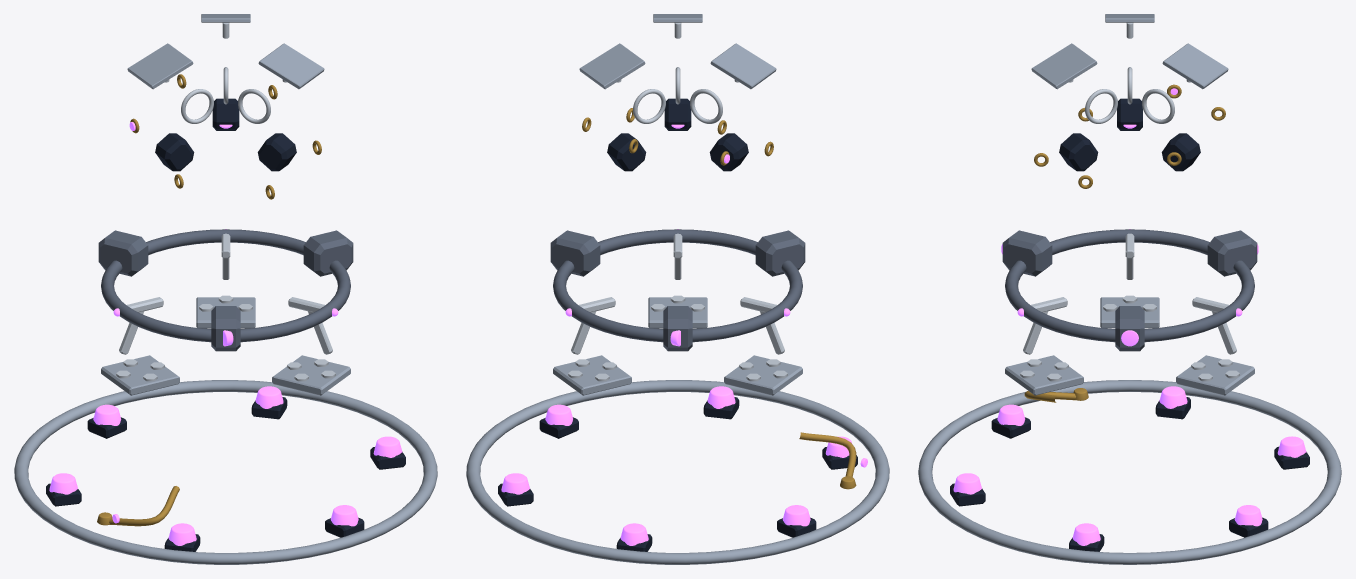
File: tower_singularity_range_s10.glb
The picture shows the model from 3 angles, left to right: view 1: azimuth 30°, elevation 25°; view 2: azimuth 150°, elevation 25°; view 3: azimuth 270°, elevation 25°; orthographic projection.
Parts seen in each view (by area): view 1: singularity_projector_ring, singularity_collar_ring, singularity_collar_pod0, singularity_collar_pod1, singularity_foot_plate0, singularity_foot_plate1, singularity_reflector0, singularity_reflector1, singularity_collar_pod2, singularity_lens_b_cowl0, singularity_lens_b_cowl1, singularity_foot_plate2 (+2 smaller); view 2: singularity_projector_ring, singularity_collar_ring, singularity_collar_pod1, singularity_collar_pod2, singularity_foot_plate0, singularity_foot_plate2, singularity_reflector0, singularity_reflector2, singularity_collar_pod0, singularity_foot_plate1, singularity_lens_b_cowl2, singularity_lens_b_cowl0 (+2 smaller); view 3: singularity_projector_ring, singularity_collar_ring, singularity_collar_pod0, singularity_collar_pod2, singularity_foot_plate1, singularity_foot_plate2, singularity_reflector1, singularity_reflector2, singularity_collar_pod1, singularity_lens_b_cowl1, singularity_foot_plate0, singularity_lens_b_cowl2 (+1 smaller).
Part boxes in pixels (x1,y1,x2,y2): singularity_projector_ring: (14,380,437,564); singularity_collar_ring: (101,229,350,342); singularity_collar_pod0: (98,230,148,276); singularity_collar_pod1: (303,230,353,276); singularity_foot_plate0: (101,355,179,395); singularity_foot_plate1: (272,355,350,395); singularity_reflector0: (127,43,193,89); singularity_reflector1: (258,43,324,89); singularity_collar_pod2: (211,306,240,351); singularity_lens_b_cowl0: (155,133,194,171); singularity_lens_b_cowl1: (257,133,296,171); singularity_foot_plate2: (196,297,255,328); singularity_projector_ring: (466,380,889,564); singularity_collar_ring: (553,229,802,342); singularity_collar_pod1: (550,230,600,276); singularity_collar_pod2: (755,230,805,276); singularity_foot_plate0: (724,355,802,395); singularity_foot_plate2: (553,355,631,395); singularity_reflector0: (710,43,776,89); singularity_reflector2: (579,43,645,89); singularity_collar_pod0: (663,306,692,351); singularity_foot_plate1: (648,297,707,328); singularity_lens_b_cowl2: (607,133,646,171); singularity_lens_b_cowl0: (709,133,748,171); singularity_projector_ring: (918,380,1341,564); singularity_collar_ring: (1005,229,1254,342); singularity_collar_pod0: (1207,230,1257,276); singularity_collar_pod2: (1002,230,1052,276); singularity_foot_plate1: (1005,355,1083,395); singularity_foot_plate2: (1176,355,1254,395); singularity_reflector1: (1031,43,1097,89); singularity_reflector2: (1162,43,1228,89); singularity_collar_pod1: (1115,306,1144,351); singularity_lens_b_cowl1: (1059,133,1098,171); singularity_foot_plate0: (1100,297,1159,328); singularity_lens_b_cowl2: (1161,133,1200,171).
Bounding box in the file's own units: 2.57 × 2.95 × 2.57.
